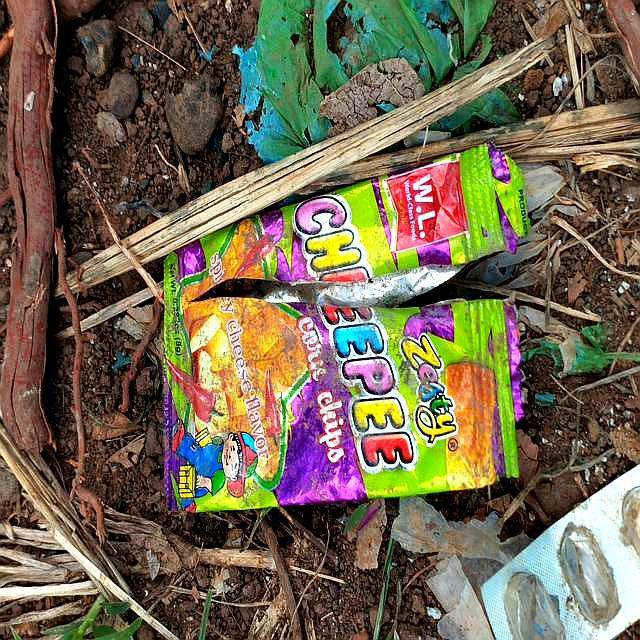Non-biodegradable: (160, 140, 532, 515)
